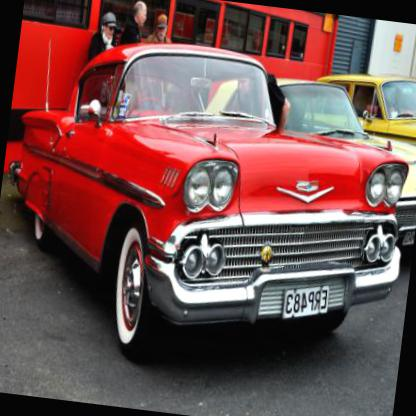car: (0, 15, 415, 390), (190, 65, 415, 251), (306, 62, 415, 156), (396, 69, 415, 120)
